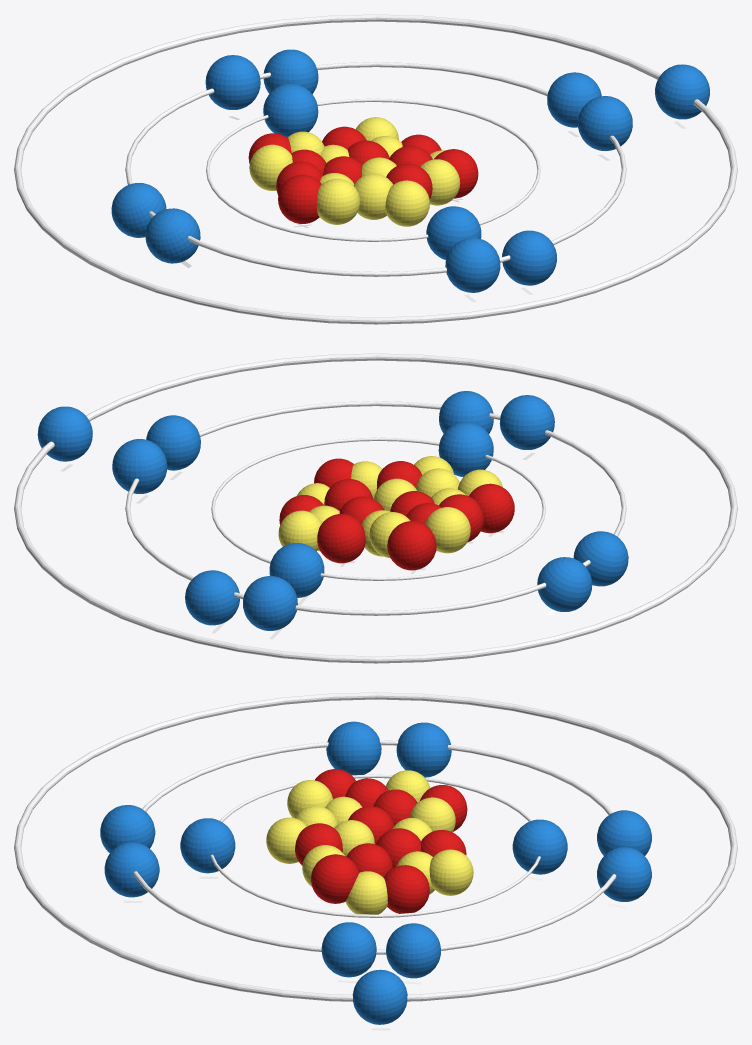
3 views of the same model, one above another, from view 1: azimuth 30°, elevation 25°; view 2: azimuth 150°, elevation 25°; view 3: azimuth 270°, elevation 25° (orthographic).
Parts seen in each view (by area): view 1: Torus.003, Torus.002, Torus.001, -.008, -.004, -.005, -.003, -.002, -.010, -.001, -.006, -.007 (+18 smaller); view 2: Torus.003, Torus.002, Torus.001, -.004, -.009, -.008, -.006, -.007, -.010, -, -.003, -.001 (+19 smaller); view 3: Torus.003, Torus.002, -.002, -.007, -.010, -, -.001, Torus.001, -.003, -.006, -.009, -.005 (+24 smaller).
Boxes of the visible parts, <box> form: Torus.003: <box>14,14,737,324</box>; Torus.002: <box>125,62,626,276</box>; Torus.001: <box>206,98,540,241</box>; -.008: <box>445,238,500,292</box>; -.004: <box>205,55,260,109</box>; -.005: <box>502,230,556,285</box>; -.003: <box>145,208,200,263</box>; -.002: <box>578,96,632,150</box>; -.010: <box>655,64,709,119</box>; -.001: <box>263,83,318,137</box>; -.006: <box>111,183,166,237</box>; -.007: <box>547,72,601,127</box>; Torus.003: <box>14,353,737,663</box>; Torus.002: <box>125,401,626,615</box>; Torus.001: <box>211,437,545,580</box>; -.004: <box>243,576,297,630</box>; -.009: <box>185,570,239,625</box>; -.008: <box>499,395,554,449</box>; -.006: <box>537,557,592,611</box>; -.007: <box>112,439,167,493</box>; -.010: <box>37,406,92,461</box>; -: <box>438,422,493,477</box>; -.003: <box>573,531,628,586</box>; -.001: <box>269,543,324,597</box>; Torus.003: <box>14,692,737,1001</box>; Torus.002: <box>133,740,616,954</box>; -.002: <box>321,922,376,977</box>; -.007: <box>386,923,440,978</box>; -.010: <box>352,969,407,1024</box>; -: <box>180,818,235,873</box>; -.001: <box>512,819,567,874</box>; Torus.001: <box>210,774,540,917</box>; -.003: <box>326,721,381,775</box>; -.006: <box>396,722,451,777</box>; -.009: <box>597,847,651,901</box>; -.005: <box>104,842,159,897</box>.
Bounding box in the file's own units: 6.29 × 0.6966 × 6.11.
